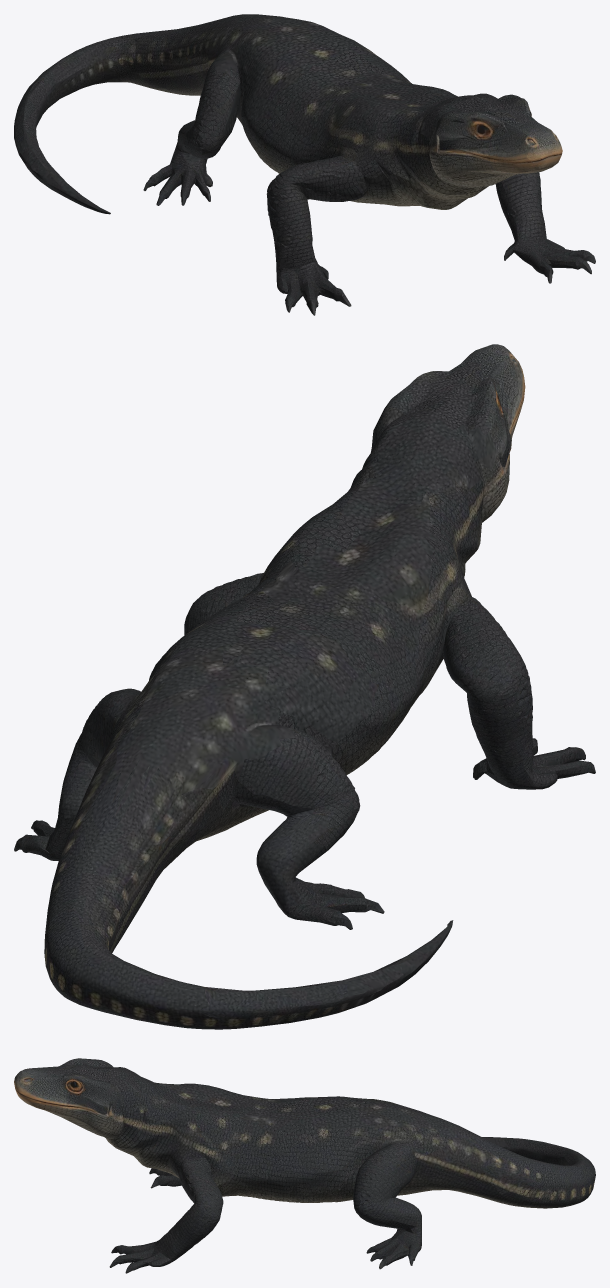
The model's file is fauna_monitor.glb.
3 renders of one model, top to bottom at view 1: azimuth 30°, elevation 25°; view 2: azimuth 150°, elevation 25°; view 3: azimuth 270°, elevation 25°, orthographic. The views are drawn at different scales.
Bounding box in the file's own units: 0.9731 × 0.5807 × 1.9.
Materials: 1 (1 with a texture image).
